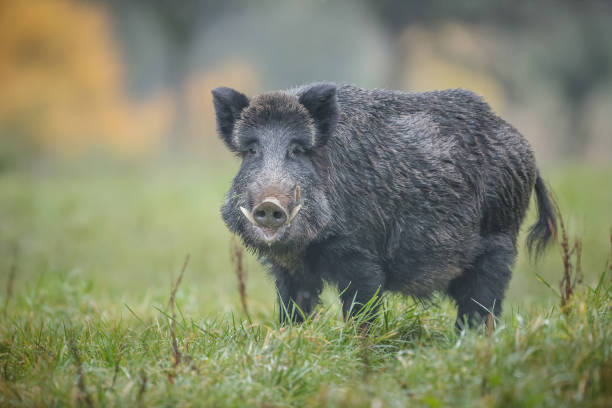pig: (217, 79, 546, 319)
